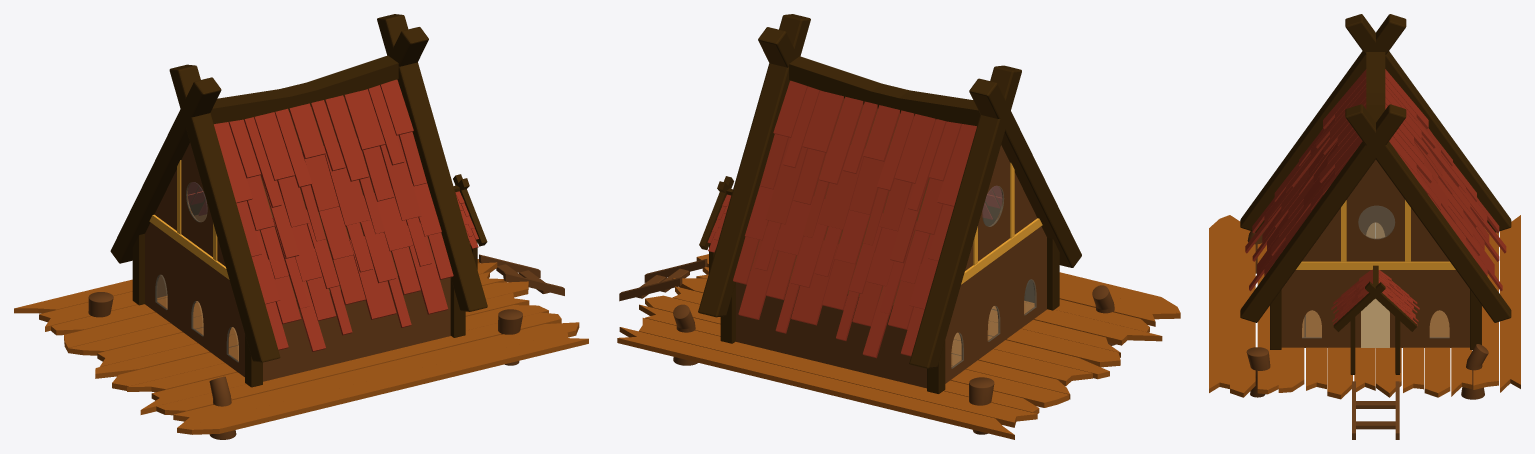
3 renders of one model, left to right at view 1: azimuth 30°, elevation 25°; view 2: azimuth 150°, elevation 25°; view 3: azimuth 270°, elevation 25°, orthographic. The views are drawn at different scales.
Visible parts, largest first — view 1: basamak; view 2: basamak; view 3: basamak.
Boxes of the visible parts, x1,y1,x2,y2 form: basamak: (14,14,588,439); basamak: (617,14,1180,439); basamak: (1209,14,1520,439).
Bounding box in the file's own units: 661 × 409 × 430.
